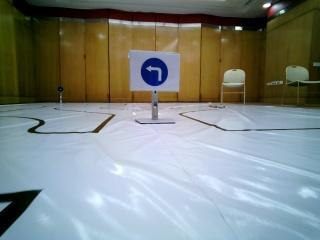left: (133, 53, 176, 92)
